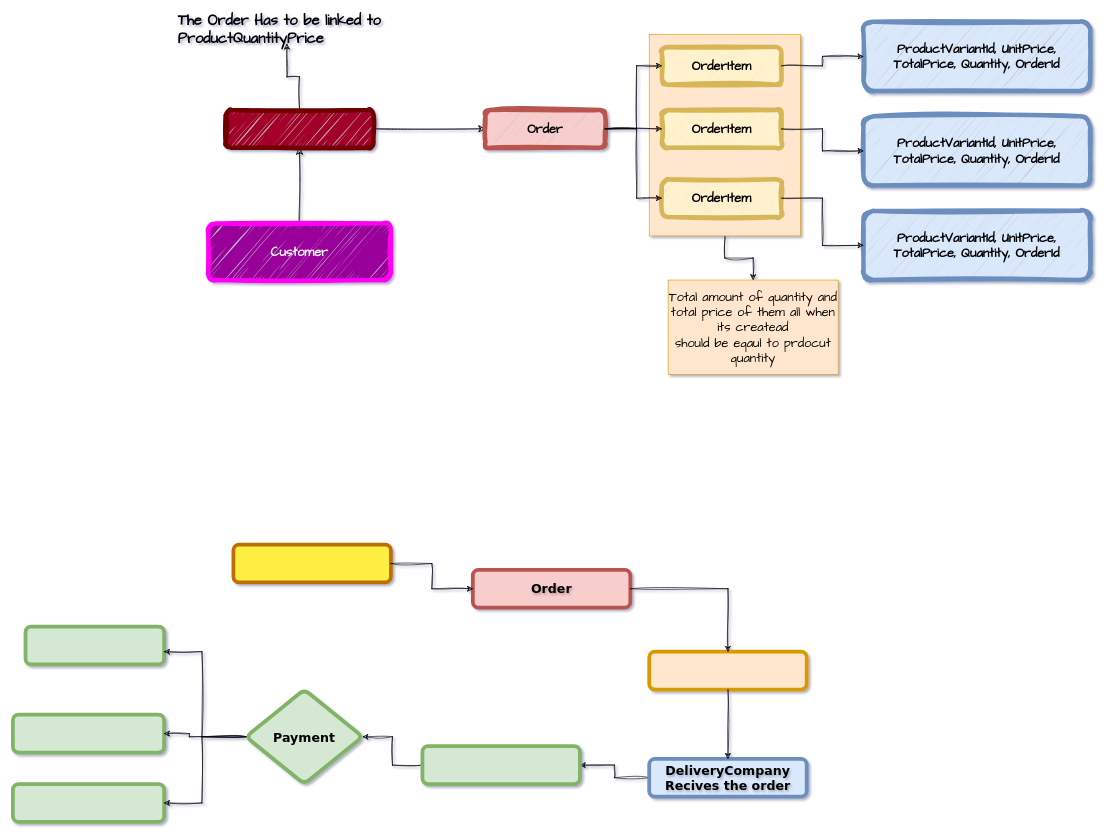
Image size: 1107x838. Some labels were removed from this diagram. The shapes that lost their labels are listed below. From the top down, each one's centre as x and y in pixels, then its label:
[299,128]: ProductQuantityPrice
[311,563]: Cusomer
[727,670]: Order Proccesing
[500,765]: deliver it to the customer
